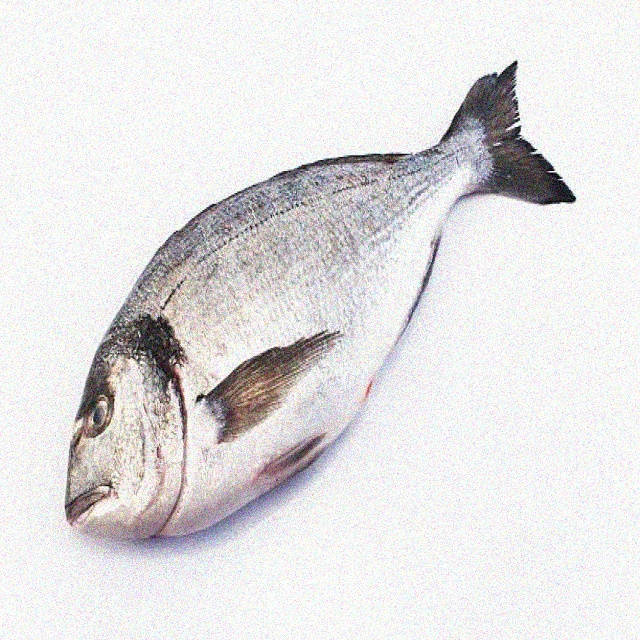Healthy Fish: (61, 62, 580, 541)
